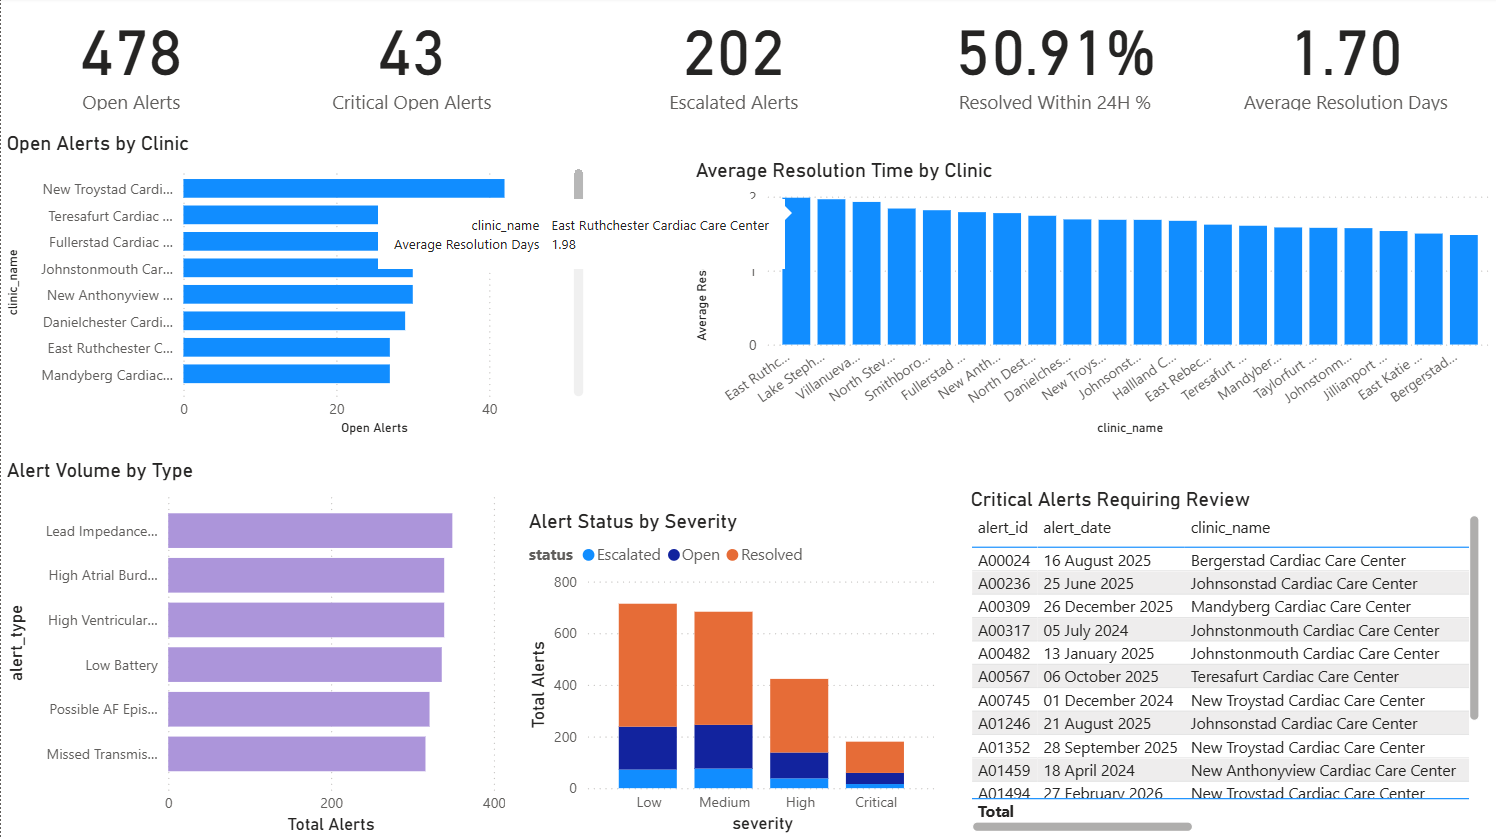

The page's visual inventory and layout, read from the dashboard file:
{"tool":"powerbi","page":{"name":"alert_management","canvas":[1280,720],"ordinal":1},"visuals":[{"type":"card","fields":{"Values":["public appointments.Open Alerts"]},"box":[0,0,222.7,102.1],"z":0},{"type":"card","fields":{"Values":["public appointments.Critical Open Alerts"]},"box":[239.3,0,223.7,102.1],"z":1000},{"type":"card","fields":{"Values":["public appointments.Escalated Alerts"]},"box":[515.5,0,221.8,102.1],"z":2000},{"type":"card","fields":{"Values":["public appointments.Resolved Within 24H %"]},"box":[800.5,0,201.3,102.1],"z":3000},{"type":"card","fields":{"Values":["public appointments.Average Resolution Days"]},"box":[1045.6,0,208.1,102.1],"z":4000},{"type":"barChart","title":"Open Alerts by Clinic","fields":{"Y":["public appointments.Open Alerts"],"Category":["public vw_alert_summary.clinic_name"]},"box":[0,114.7,502.9,264.8],"z":5000},{"type":"barChart","title":"Alert Volume by Type","fields":{"Y":["public appointments.Total Alerts"],"Category":["public vw_alert_summary.alert_type"]},"box":[0,394.2,436.4,326],"z":6000},{"type":"columnChart","title":"Average Resolution Time by Clinic","fields":{"Y":["public appointments.Average Resolution Days"],"Category":["public vw_alert_summary.clinic_name"]},"box":[589.1,138,690.9,241.5],"z":7000},{"type":"columnChart","title":"Alert Status by Severity","fields":{"Category":["public vw_alert_summary.severity"],"Series":["public vw_alert_summary.status"],"Y":["public appointments.Total Alerts"]},"box":[446.8,438.2,358.8,282],"z":8000},{"type":"tableEx","title":"Critical Alerts Requiring Review","fields":{"Values":["public vw_alert_summary.alert_id","public vw_alert_summary.alert_date","public vw_alert_summary.clinic_name","public vw_alert_summary.patient_id","public vw_alert_summary.device_type","public vw_alert_summary.alert_type","public vw_alert_summary.severity","public vw_alert_summary.status","Sum(public vw_alert_summary.resolution_days)"]},"box":[824.6,419.2,445.1,300.2],"z":9000}]}

Visuals, with their boxes in screenshot pixels (x1, y1, x2, y2), scaled from the page's 1280x720 canvas onto the 1496x837 screenshot:
card - public appointments.Open Alerts: [0,0,260,119]
card - public appointments.Critical Open Alerts: [280,0,541,119]
card - public appointments.Escalated Alerts: [602,0,862,119]
card - public appointments.Resolved Within 24H %: [936,0,1171,119]
card - public appointments.Average Resolution Days: [1222,0,1465,119]
"Open Alerts by Clinic" barChart: [0,133,588,441]
"Alert Volume by Type" barChart: [0,458,510,836]
"Average Resolution Time by Clinic" columnChart: [689,160,1495,441]
"Alert Status by Severity" columnChart: [522,509,942,836]
"Critical Alerts Requiring Review" tableEx: [964,487,1484,836]
